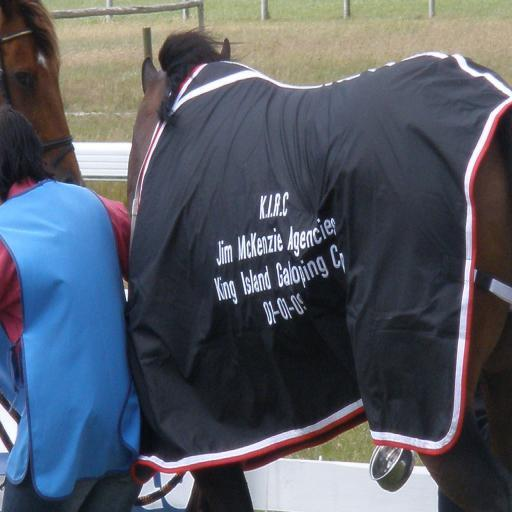horse: (124, 22, 512, 512), (0, 0, 86, 189)
